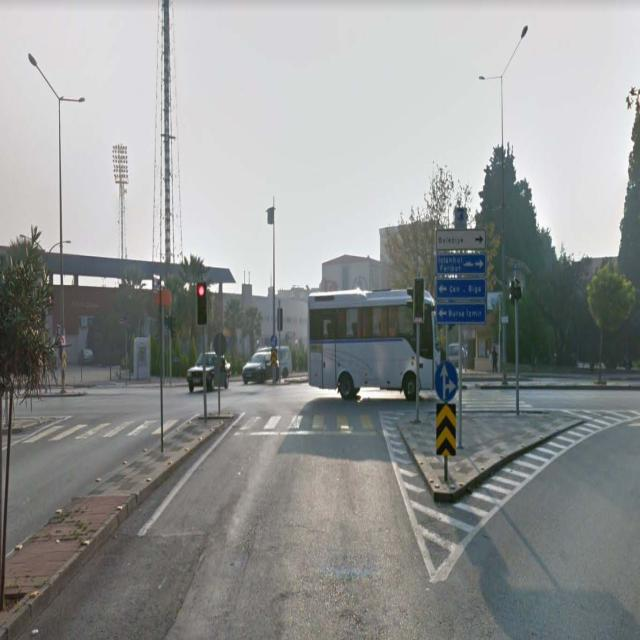ilerisag: (435, 362, 458, 400)
ilerisol: (270, 335, 278, 349)
kirmizi: (197, 283, 206, 325)
